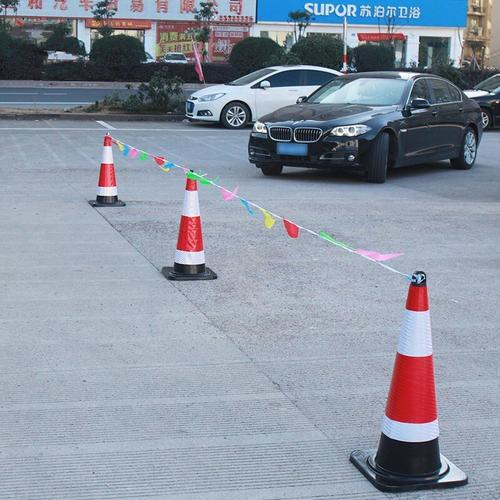cone_barrel: (362, 274, 458, 487), (164, 170, 215, 281), (88, 131, 125, 209)
